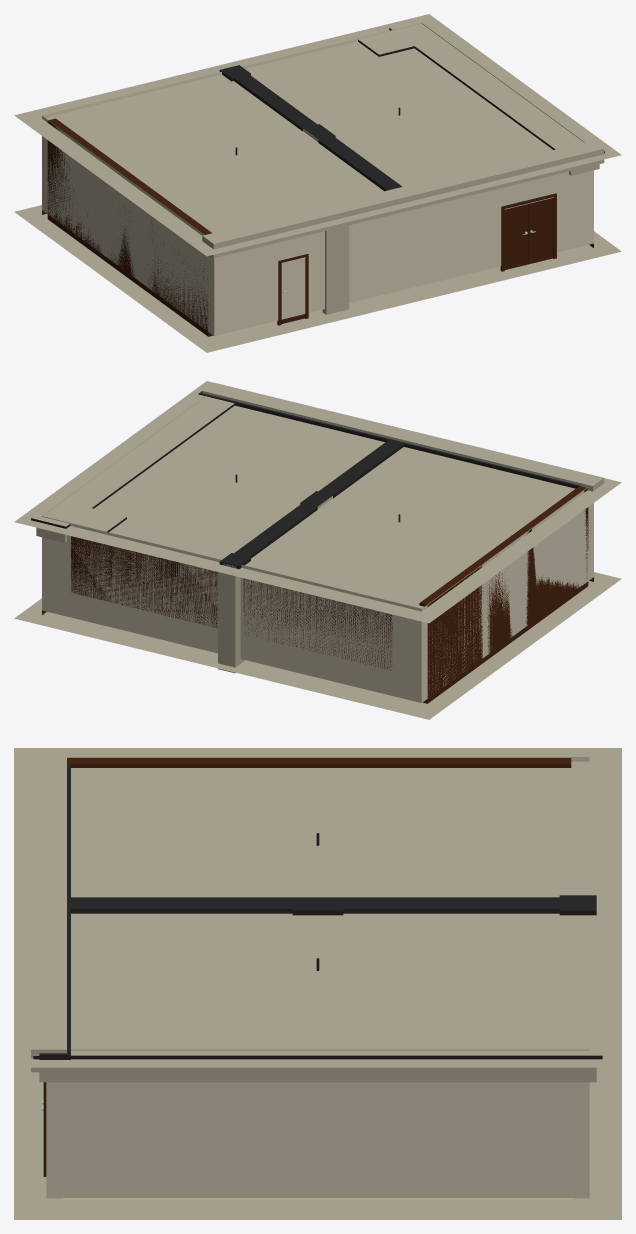
The model's file is Chapel.fbx.
3 views of the same model, one above another, from view 1: azimuth 30°, elevation 25°; view 2: azimuth 150°, elevation 25°; view 3: azimuth 270°, elevation 25° (orthographic). The views are drawn at different scales.
Visible parts, largest first — view 1: Plane.001; view 2: Plane.001; view 3: Plane.001.
Part boxes in pixels (box(x1,y1,x2,y2)): Plane.001: box(14, 14, 621, 352); Plane.001: box(14, 381, 621, 719); Plane.001: box(14, 748, 621, 1219).
Size of the model in its own units: 25.52 by 6.44 by 20.52.
